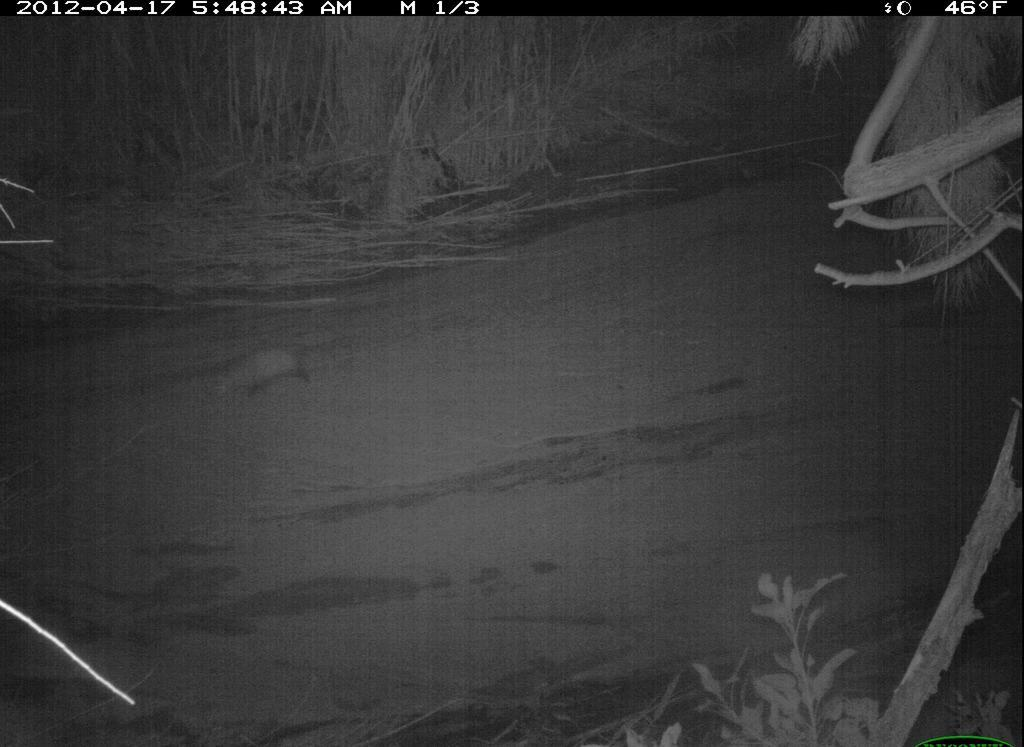opossum: (193, 333, 364, 427)
